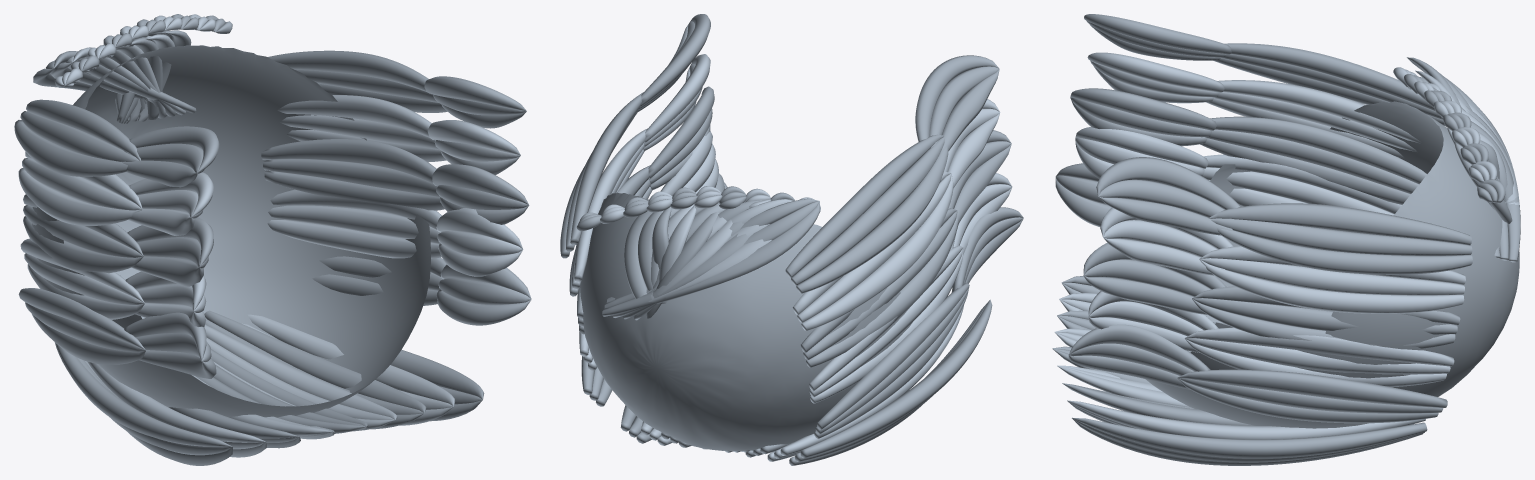
3 renders of one model, left to right at view 1: azimuth 30°, elevation 25°; view 2: azimuth 150°, elevation 25°; view 3: azimuth 270°, elevation 25°, orthographic. The views are drawn at different scales.
Parts seen in each view (by area): view 1: CrownHair_ref04, BackHair_06_Strand2, SideHair_Upper_1_2_Strand2, BackHair_00_Strand0, SideHair_Upper_1_2_Strand1, SideHair_Upper_1_0_Strand2, SideHair_Upper_1_3_Strand1, SideHair_Upper_1_3_Strand0, BackHair_05_Strand2, SideHair_Upper_1_1_Strand2, BackHair_07_Strand2, SideHair_Upper_1_2_Strand0 (+69 smaller); view 2: CrownHair_ref04, BackHair_00_Strand0, SideHair_Upper_-1_0_Strand2, SideHair_Upper_-1_1_Strand2, SideHair_Upper_-1_0_Strand0, SideHair_Upper_-1_0_Strand1, SideHair_Upper_-1_4_Strand0, FrontHair_Sweep_00_Strand2, SideHair_Upper_-1_2_Strand2, SideHair_Upper_1_0_Strand2, SideHair_Upper_-1_1_Strand1, SideHair_Upper_-1_3_Strand1 (+44 smaller); view 3: CrownHair_ref04, BackHair_08_Strand2, SideHair_Upper_1_0_Strand2, SideHair_Upper_1_4_Strand2, SideHair_Upper_1_0_Strand0, SideHair_Upper_1_1_Strand0, SideHair_Upper_1_0_Strand1, SideHair_Upper_1_1_Strand1, BackHair_07_Strand2, SideHair_Upper_-1_2_Strand0, SideHair_Upper_1_3_Strand2, SideHair_Upper_-1_0_Strand0 (+54 smaller).
Boxes of the visible parts, <box> form: CrownHair_ref04: <box>32,45,430,417</box>; BackHair_06_Strand2: <box>204,310,426,412</box>; SideHair_Upper_1_2_Strand2: <box>261,139,438,185</box>; BackHair_00_Strand0: <box>54,342,232,446</box>; SideHair_Upper_1_2_Strand1: <box>263,159,439,196</box>; SideHair_Upper_1_0_Strand2: <box>267,50,428,91</box>; SideHair_Upper_1_3_Strand1: <box>268,205,440,244</box>; SideHair_Upper_1_3_Strand0: <box>267,220,441,258</box>; BackHair_05_Strand2: <box>204,324,397,419</box>; SideHair_Upper_1_1_Strand2: <box>277,95,435,140</box>; BackHair_07_Strand2: <box>248,314,455,406</box>; SideHair_Upper_1_2_Strand0: <box>264,170,444,210</box>; CrownHair_ref04: <box>580,192,912,451</box>; BackHair_00_Strand0: <box>800,299,992,458</box>; SideHair_Upper_-1_0_Strand2: <box>796,146,948,293</box>; SideHair_Upper_-1_1_Strand2: <box>801,174,953,331</box>; SideHair_Upper_-1_0_Strand0: <box>785,134,944,277</box>; SideHair_Upper_-1_0_Strand1: <box>791,137,944,285</box>; SideHair_Upper_-1_4_Strand0: <box>816,283,969,429</box>; FrontHair_Sweep_00_Strand2: <box>602,201,819,316</box>; SideHair_Upper_-1_2_Strand2: <box>806,211,958,367</box>; SideHair_Upper_1_0_Strand2: <box>570,92,643,245</box>; SideHair_Upper_-1_1_Strand1: <box>797,173,951,322</box>; SideHair_Upper_-1_3_Strand1: <box>809,248,963,397</box>; CrownHair_ref04: <box>1145,101,1519,428</box>; BackHair_08_Strand2: <box>1072,417,1427,458</box>; SideHair_Upper_1_0_Strand2: <box>1208,203,1471,244</box>; SideHair_Upper_1_4_Strand2: <box>1177,369,1447,407</box>; SideHair_Upper_1_0_Strand0: <box>1217,228,1472,274</box>; SideHair_Upper_1_1_Strand0: <box>1199,259,1464,313</box>; SideHair_Upper_1_0_Strand1: <box>1210,218,1472,255</box>; SideHair_Upper_1_1_Strand1: <box>1199,258,1464,295</box>; BackHair_07_Strand2: <box>1067,400,1425,439</box>; SideHair_Upper_-1_2_Strand0: <box>1210,116,1426,184</box>; SideHair_Upper_1_3_Strand2: <box>1185,327,1454,366</box>; SideHair_Upper_-1_0_Strand0: <box>1224,43,1435,111</box>.
Bounding box in the file's own units: 0.6605 × 0.6456 × 0.7854.
